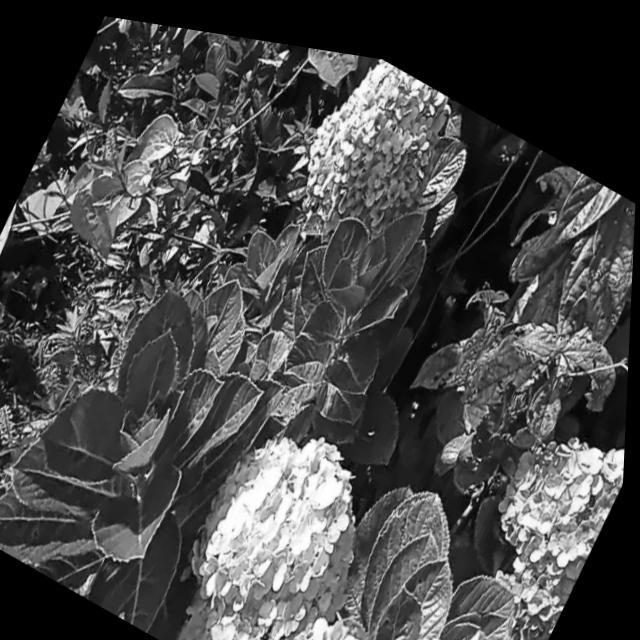Flower: (148, 374, 403, 640), (449, 367, 629, 640), (290, 36, 466, 252)
